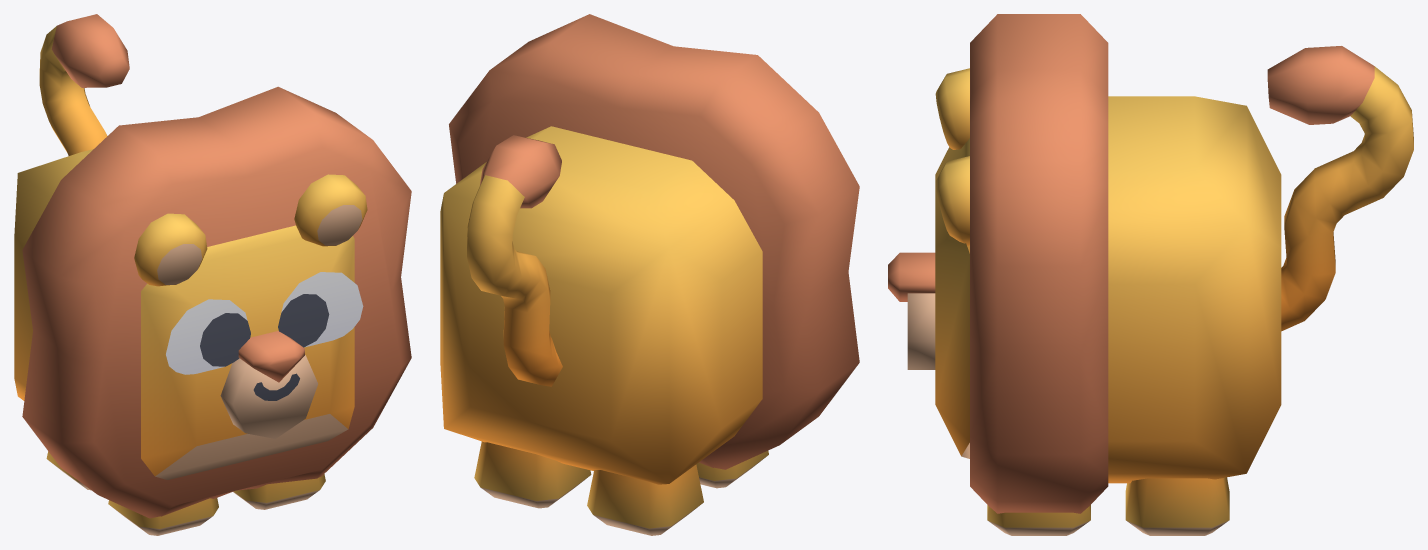
Rendered from lion.glb.
The picture shows the model from 3 angles, left to right: view 1: azimuth 30°, elevation 25°; view 2: azimuth 150°, elevation 25°; view 3: azimuth 270°, elevation 25°; orthographic projection. The views are drawn at different scales.
Visible parts, largest first — view 1: animal-lion; view 2: animal-lion; view 3: animal-lion.
Part boxes in pixels (x1,y1,x2,y2): animal-lion: [14, 14, 411, 535]; animal-lion: [440, 14, 859, 535]; animal-lion: [888, 14, 1413, 535].
Bounding box in the file's own units: 1.65 × 1.75 × 1.9.
1 material, 1 textured.
